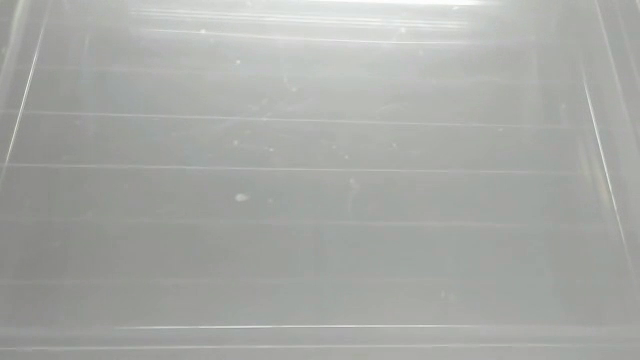alpha: (232, 189, 252, 206)
